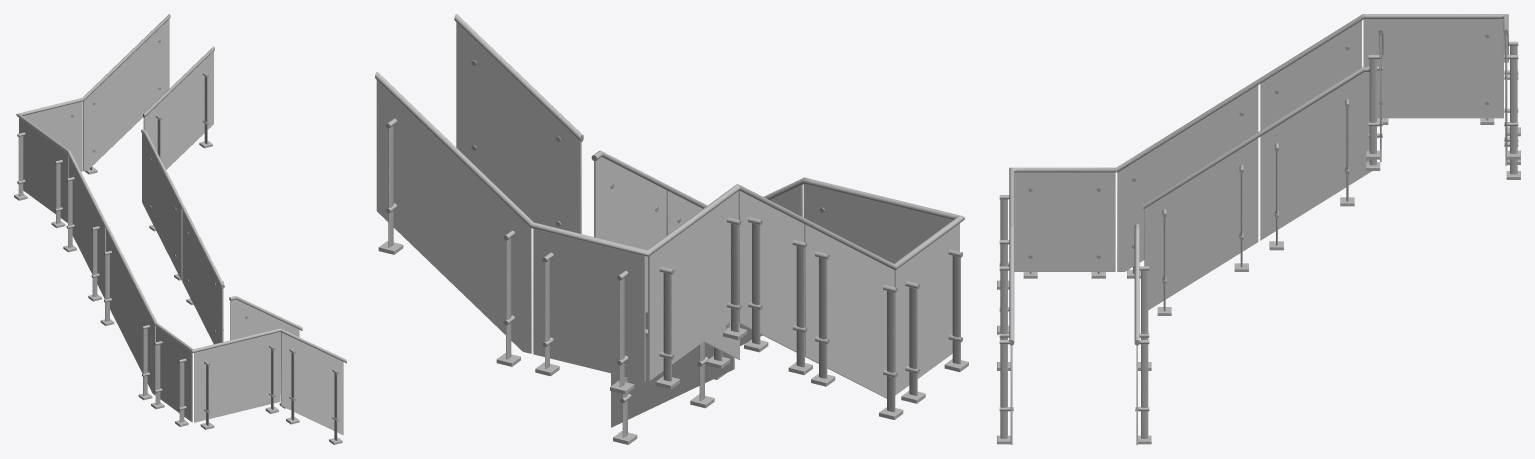
The model's file is U-Shaped_Railing_Konic.gltf.
3 views of the same model, side by side, from view 1: azimuth 30°, elevation 25°; view 2: azimuth 150°, elevation 25°; view 3: azimuth 270°, elevation 25° (orthographic). The views are drawn at different scales.
Parts seen in each view (by area): view 1: Casework 1 Casework 1 [8738332], Infill_Glass_Raked & Horizontal Generic [8738822]001, Infill_Glass_Raked & Horizontal Generic [8739593]001, Infill_Glass_Raked & Horizontal Generic [8199751], Casework 1 Casework 1 [8738332]001, Infill_Glass_Transition Generic [8202170], Infill_Glass_Raked & Horizontal Generic [8738822], Infill_Glass_Raked & Horizontal Generic [8199751]001, Infill_Glass_Raked & Horizontal Generic [8739593], Infill_Glass_Raked & Horizontal Generic [8737682]001, Infill_Glass_Raked & Horizontal Generic [8737682], Infill_Glass_Transition Generic [8202170]001 (+9 smaller); view 2: Casework 1 Casework 1 [8738332], Infill_Glass_Raked & Horizontal Generic [8199751], Infill_Glass_Raked & Horizontal Generic [8737682], Casework 1 Casework 1 [8738332]001, Infill_Glass_Raked & Horizontal Generic [8738822], Infill_Glass_Raked & Horizontal Generic [8739593], Infill_Glass_Raked & Horizontal Generic [8737682]001, Infill_Glass_Raked & Horizontal Generic [8738822]001, Infill_Glass_Transition Generic [8202170], Infill_Glass_Transition Generic [8202170]001, Object, Infill_Glass_Raked & Horizontal Generic [8199751]001 (+16 smaller); view 3: Infill_Glass_Raked & Horizontal Generic [8738822], Infill_Glass_Raked & Horizontal Generic [8199751]001, Infill_Glass_Transition Generic [8202170], Infill_Glass_Raked & Horizontal Generic [8737682]001, Casework 1 Casework 1 [8738332]001, Infill_Glass_Raked & Horizontal Generic [8739593], Generic Models 1 Generic Models 1 [8568048], Generic Models 10 Generic Models 1 [8735975], Object, LS201 & LS202 - Konic Post Material LS Material [9048890]001, LS201 & LS202 - Konic Post Material LS Material [9048834]005, LS201 & LS202 - Konic Post Material LS Material [9048587]001 (+7 smaller).
Boxes of the visible parts, x1=… form: Casework 1 Casework 1 [8738332]: x1=83, y1=19, x2=169, y2=170; Infill_Glass_Raked & Horizontal Generic [8738822]001: x1=194, y1=332, x2=280, y2=422; Infill_Glass_Raked & Horizontal Generic [8739593]001: x1=281, y1=332, x2=343, y2=435; Infill_Glass_Raked & Horizontal Generic [8199751]: x1=143, y1=51, x2=213, y2=169; Casework 1 Casework 1 [8738332]001: x1=105, y1=229, x2=155, y2=395; Infill_Glass_Transition Generic [8202170]: x1=142, y1=133, x2=182, y2=280; Infill_Glass_Raked & Horizontal Generic [8738822]: x1=19, y1=118, x2=68, y2=222; Infill_Glass_Raked & Horizontal Generic [8199751]001: x1=182, y1=210, x2=223, y2=344; Infill_Glass_Raked & Horizontal Generic [8739593]: x1=69, y1=156, x2=105, y2=298; Infill_Glass_Raked & Horizontal Generic [8737682]001: x1=156, y1=326, x2=192, y2=422; Infill_Glass_Raked & Horizontal Generic [8737682]: x1=23, y1=101, x2=82, y2=171; Infill_Glass_Transition Generic [8202170]001: x1=230, y1=299, x2=299, y2=393; Casework 1 Casework 1 [8738332]: x1=376, y1=80, x2=532, y2=353; Infill_Glass_Raked & Horizontal Generic [8199751]: x1=456, y1=22, x2=581, y2=233; Infill_Glass_Raked & Horizontal Generic [8737682]: x1=533, y1=229, x2=645, y2=381; Casework 1 Casework 1 [8738332]001: x1=804, y1=224, x2=894, y2=398; Infill_Glass_Raked & Horizontal Generic [8738822]: x1=648, y1=191, x2=738, y2=380; Infill_Glass_Raked & Horizontal Generic [8739593]: x1=738, y1=190, x2=804, y2=352; Infill_Glass_Raked & Horizontal Generic [8737682]001: x1=894, y1=223, x2=959, y2=395; Infill_Glass_Raked & Horizontal Generic [8738822]001: x1=803, y1=184, x2=952, y2=263; Infill_Glass_Transition Generic [8202170]: x1=594, y1=157, x2=666, y2=313; Infill_Glass_Transition Generic [8202170]001: x1=611, y1=336, x2=734, y2=427; Object: x1=375, y1=72, x2=737, y2=256; Infill_Glass_Raked & Horizontal Generic [8199751]001: x1=666, y1=190, x2=739, y2=359; Infill_Glass_Raked & Horizontal Generic [8738822]: x1=1363, y1=19, x2=1503, y2=118; Infill_Glass_Raked & Horizontal Generic [8199751]001: x1=1144, y1=138, x2=1258, y2=309; Infill_Glass_Transition Generic [8202170]: x1=1260, y1=72, x2=1371, y2=240; Infill_Glass_Raked & Horizontal Generic [8737682]001: x1=1014, y1=172, x2=1115, y2=271; Casework 1 Casework 1 [8738332]001: x1=1117, y1=85, x2=1258, y2=271; Infill_Glass_Raked & Horizontal Generic [8739593]: x1=1260, y1=20, x2=1361, y2=130; Generic Models 1 Generic Models 1 [8568048]: x1=1143, y1=67, x2=1369, y2=208; Generic Models 10 Generic Models 1 [8735975]: x1=1164, y1=14, x2=1368, y2=141; Object: x1=1368, y1=14, x2=1508, y2=62; LS201 & LS202 - Konic Post Material LS Material [9048890]001: x1=1510, y1=59, x2=1517, y2=153; LS201 & LS202 - Konic Post Material LS Material [9048834]005: x1=1000, y1=344, x2=1007, y2=438; LS201 & LS202 - Konic Post Material LS Material [9048587]001: x1=1369, y1=59, x2=1376, y2=153.
Size of the model in its own units: 2 by 3.49 by 3.96.
